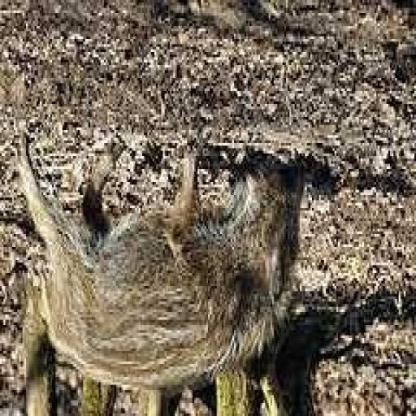boar: (25, 99, 348, 406)
